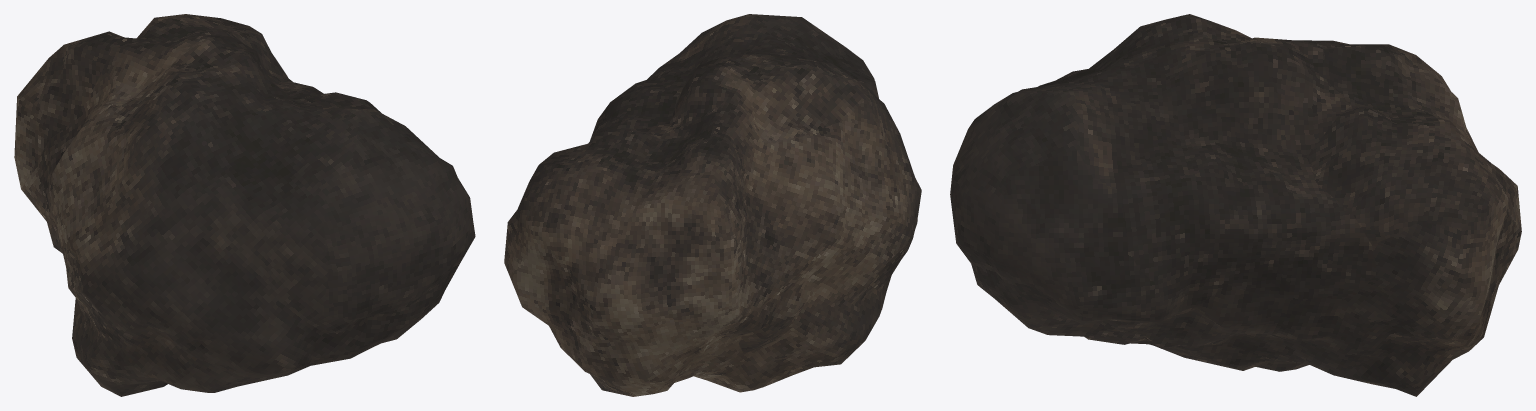
The model's file is SM_RP2_Rock_2m_2.glb.
3 views of the same model, side by side, from view 1: azimuth 30°, elevation 25°; view 2: azimuth 150°, elevation 25°; view 3: azimuth 270°, elevation 25° (orthographic). The views are drawn at different scales.
Visible parts, largest first — view 1: SM_RP2_Rock_2m_2; view 2: SM_RP2_Rock_2m_2; view 3: SM_RP2_Rock_2m_2.
Boxes of the visible parts, x1=… form: SM_RP2_Rock_2m_2: x1=14, y1=14, x2=475, y2=396; SM_RP2_Rock_2m_2: x1=504, y1=14, x2=921, y2=396; SM_RP2_Rock_2m_2: x1=950, y1=14, x2=1521, y2=396.
Bounding box in the file's own units: 2.66 × 2.48 × 3.73.
Materials: 1 (1 with a texture image).
